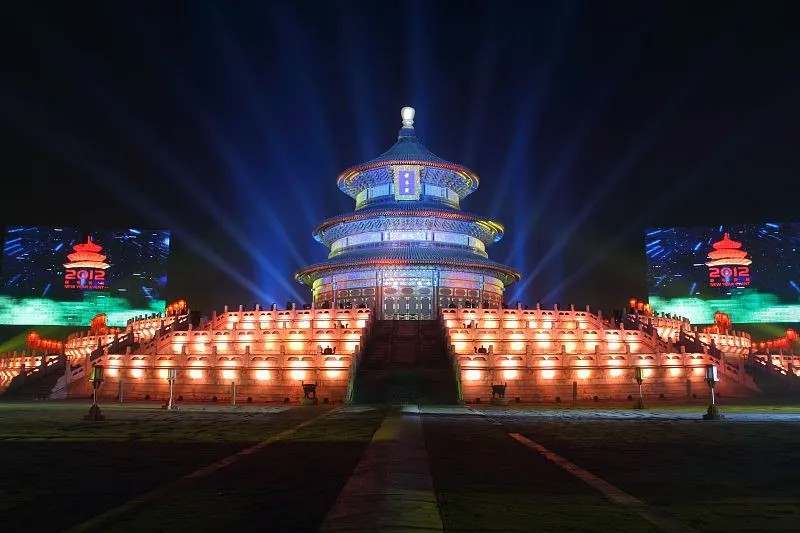Heaven: (295, 108, 521, 319)
